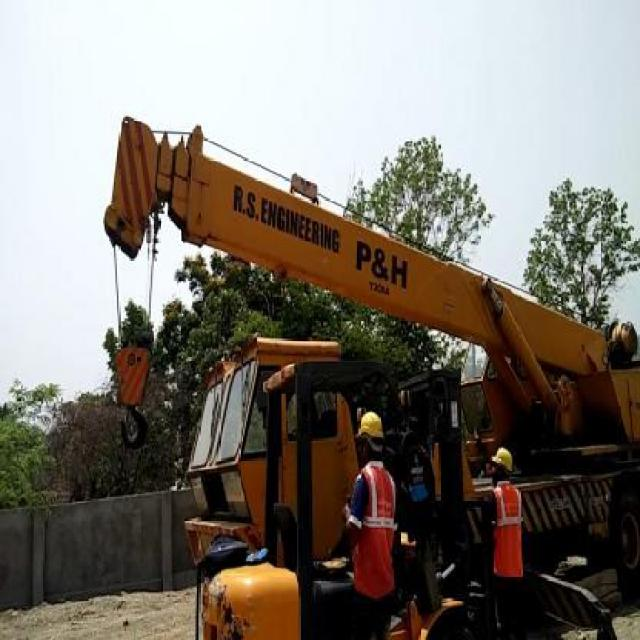Mobile Crane: (107, 120, 640, 639)
